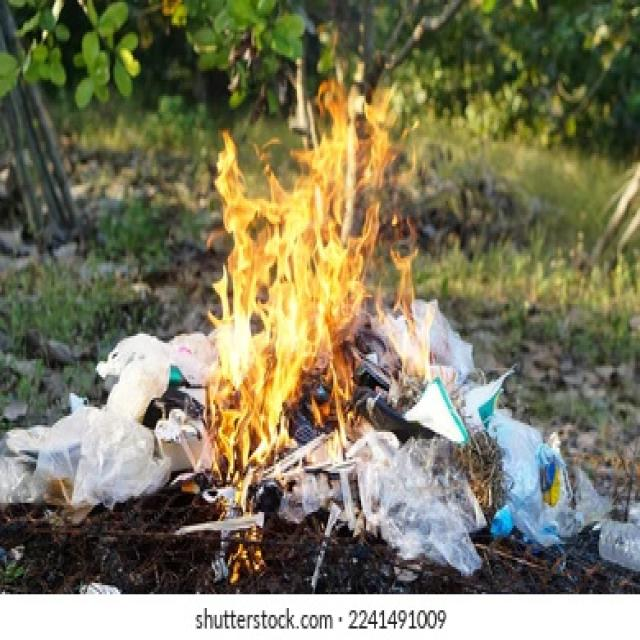fire: (202, 19, 439, 585)
